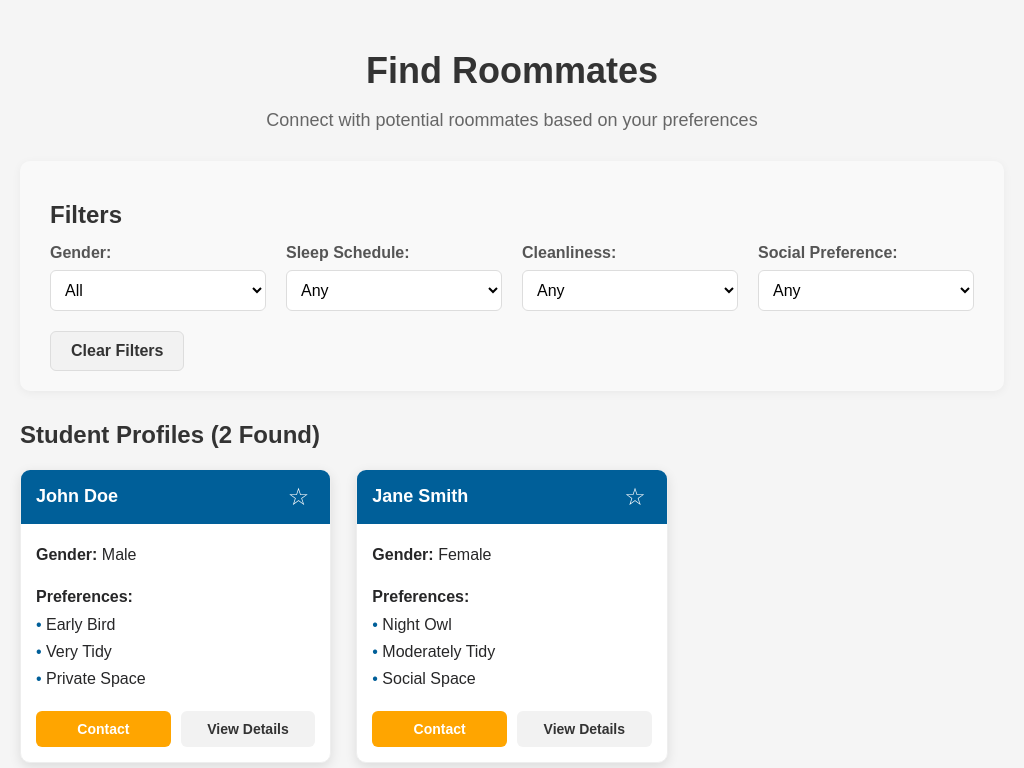
FindRoommate Component › filters profiles by sleep schedule
The width and height of the screenshot is (1024, 768).
Select "Night Owl" filter
Select "Night Owl" in the dropdown labelled "Sleep Schedule:" at (394,290), box [286,270,502,311]
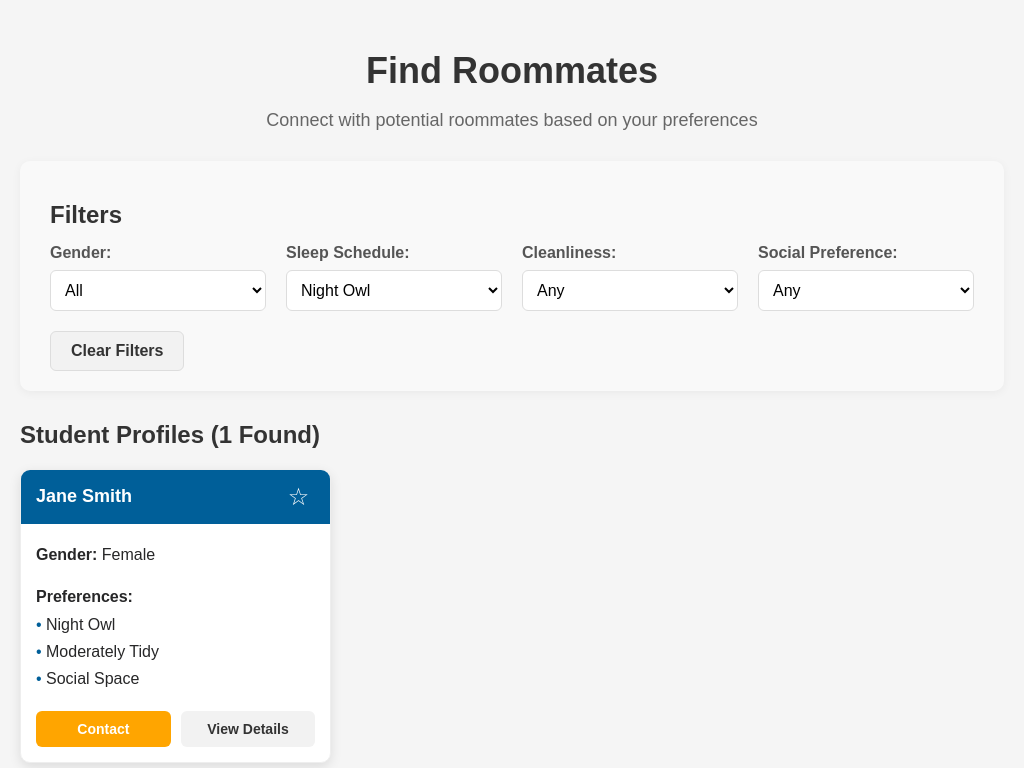
Expected: the heading "Jane Smith" is shown, [36,486,132,507]
Expected: the heading "John Doe" is gone
